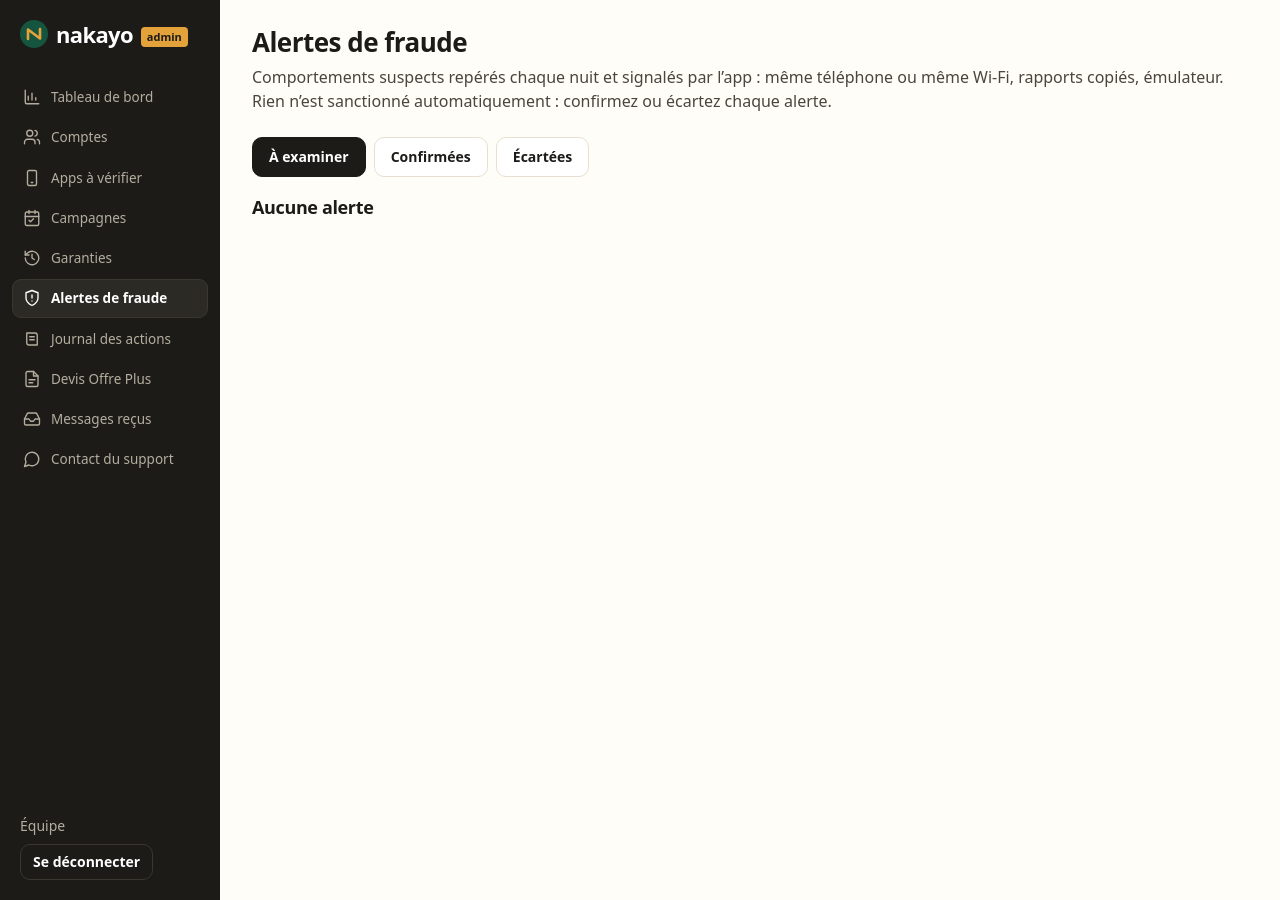
Scenario: Back-office : alertes de fraude (US-28) › affiche les alertes confirmées avec leur note
Expected: the heading "Aucune alerte" is shown, [252, 195, 373, 219]
Click the button "Confirmées" at (431, 157), box [374, 137, 488, 177]
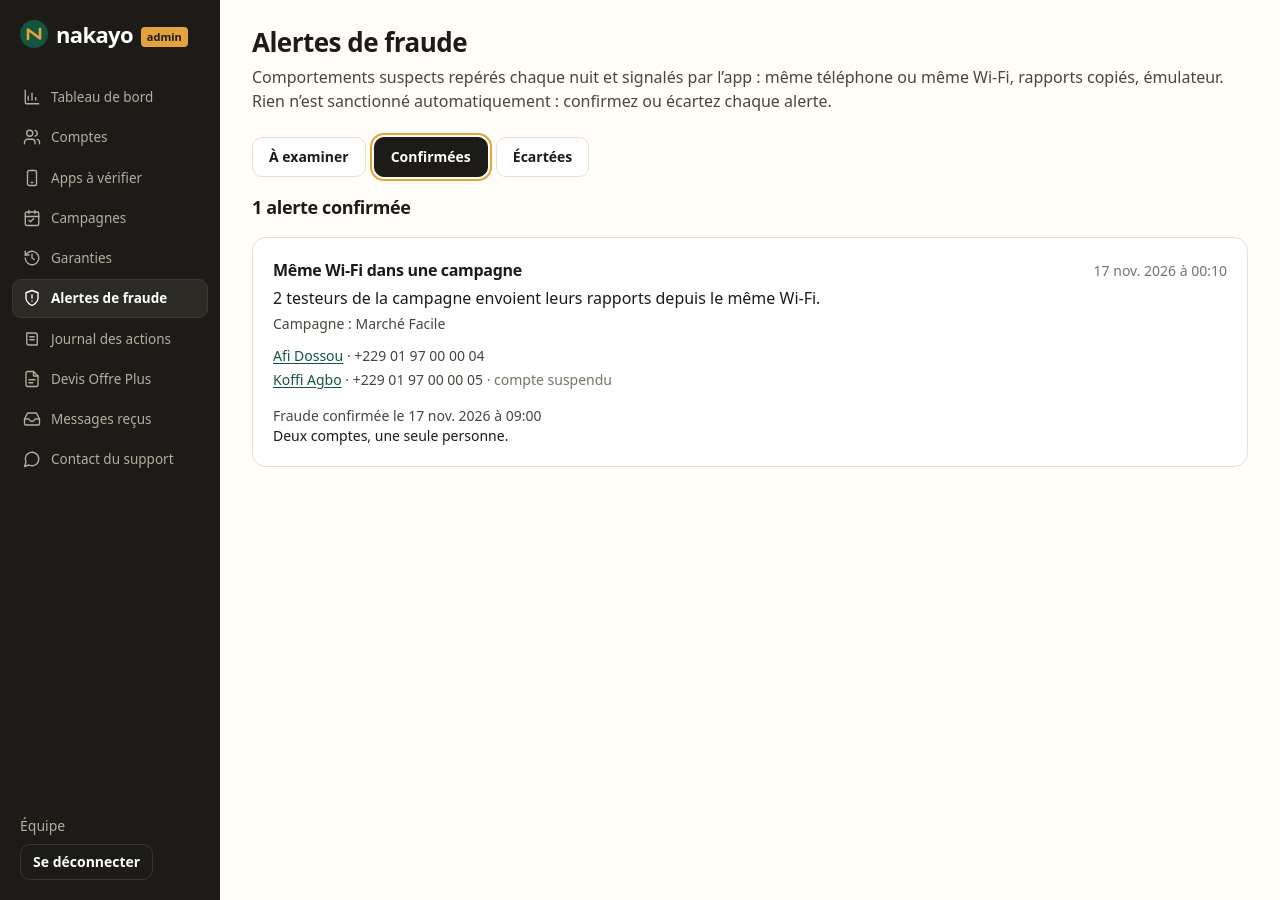
Now the text "Deux comptes, une seule personne." is shown, box [273, 426, 508, 445]
Now the text "Fraude confirmée le" is shown, box [273, 406, 542, 445]
